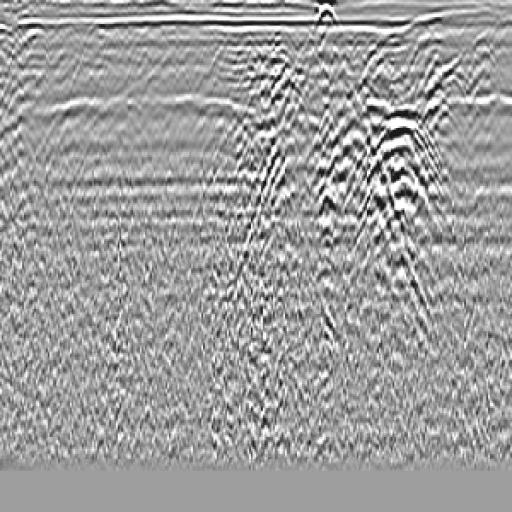non-metallic: (213, 1, 433, 315), (326, 40, 486, 266)
